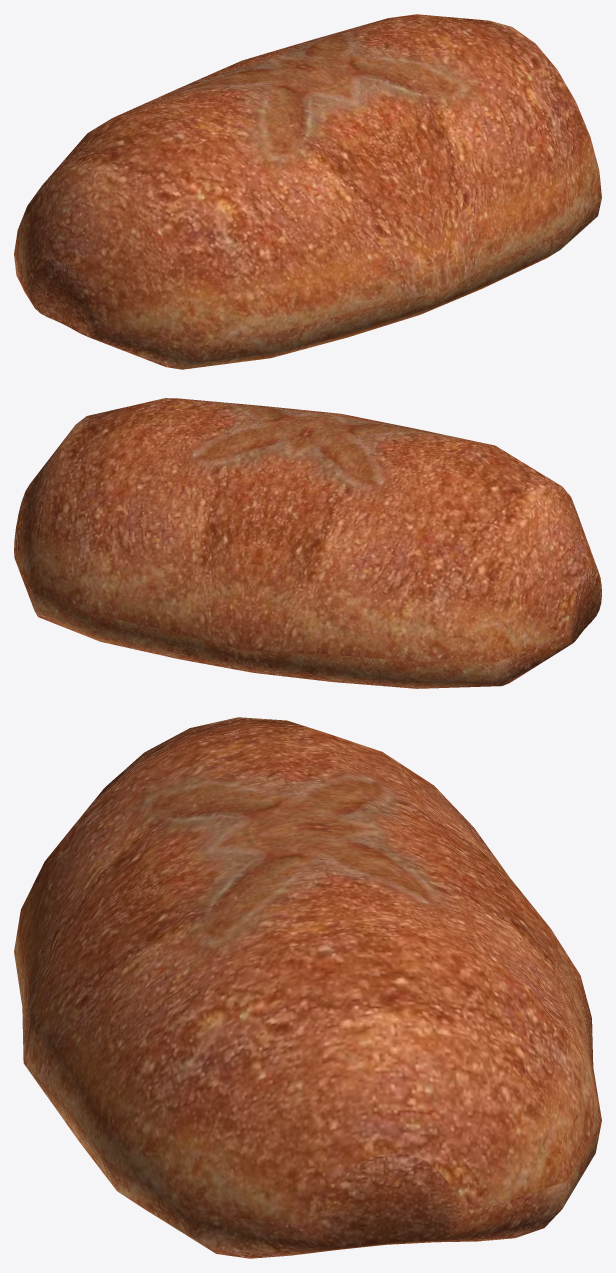
File: Food_Bread.glb
3 renders of one model, top to bottom at view 1: azimuth 30°, elevation 25°; view 2: azimuth 150°, elevation 25°; view 3: azimuth 270°, elevation 25°, orthographic. The views are drawn at different scales.
Visible parts, largest first — view 1: Food_Bread; view 2: Food_Bread; view 3: Food_Bread.
Part boxes in pixels (<box>): Food_Bread: <box>14,14,601,369</box>; Food_Bread: <box>14,398,601,688</box>; Food_Bread: <box>14,717,601,1258</box>.
Size of the model in its own units: 0.4455 by 0.1525 by 0.2938.
Materials: 1 (1 with a texture image).
